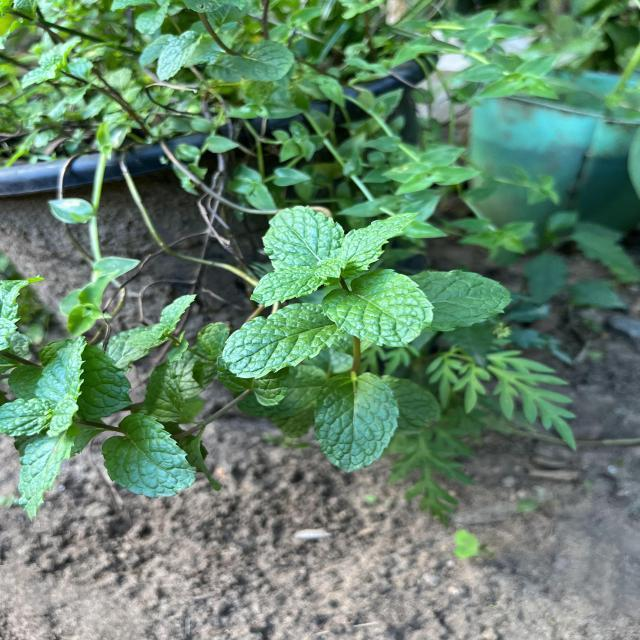Mentha spicata: (222, 302, 344, 381), (321, 268, 436, 350), (312, 371, 400, 474), (101, 412, 199, 501), (260, 203, 347, 270)
